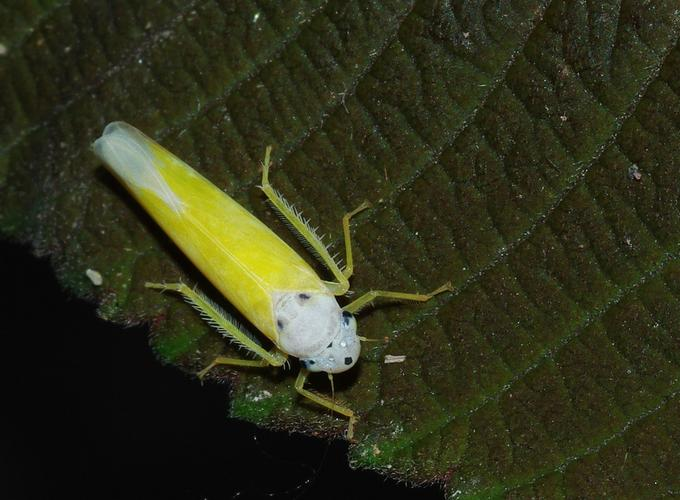Cicadellidae: (91, 120, 450, 428)
